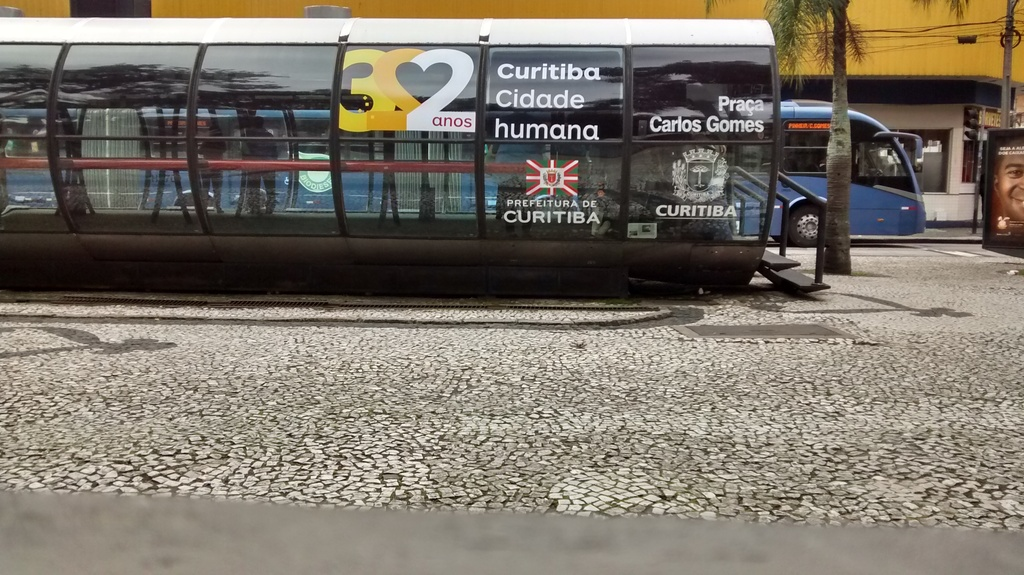Wheel: (789, 200, 828, 250)
